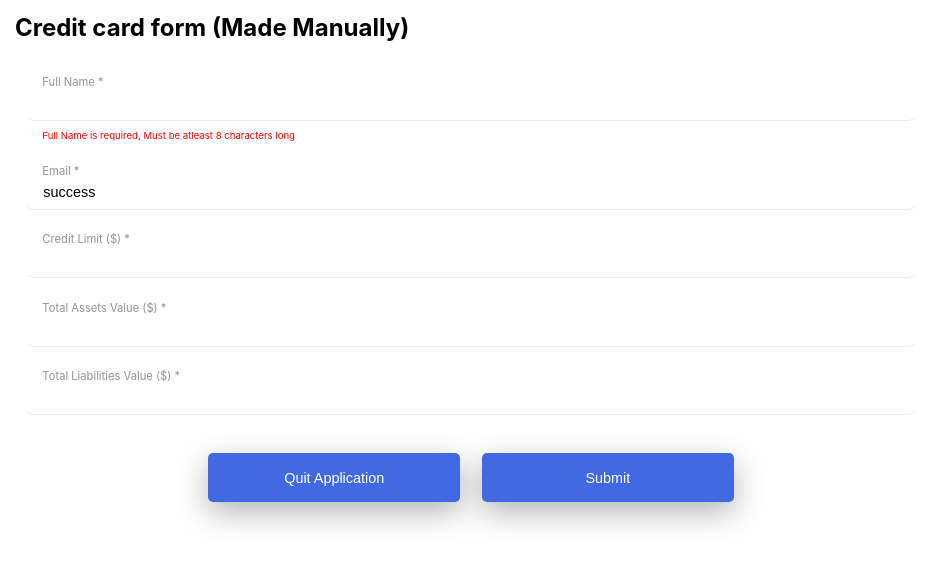
<CreditCardAppForm/> › checks the Full Name Field › checks the email field › throws an error message if user enters an invalid email
Replace the text in the field with id "email" with "errw" at (471, 196), box [24,183,918,210]
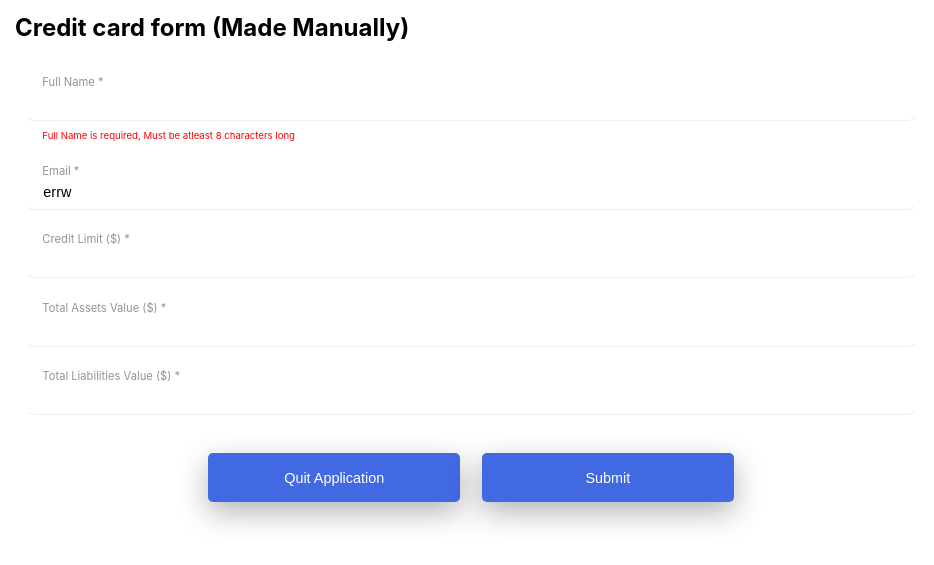
Leave the field with id "email", box [24,183,918,210]
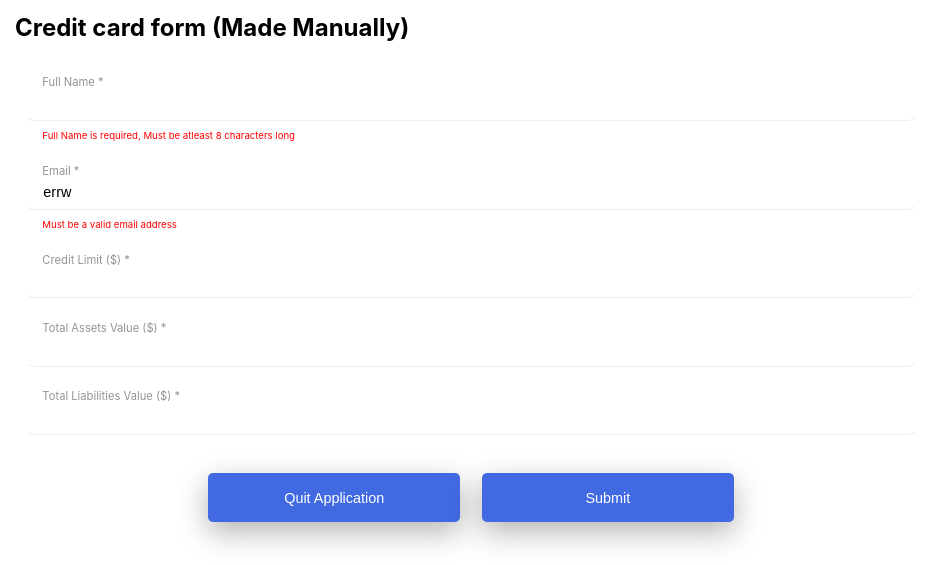
Expected: the text "Must be a valid email address" is shown, [42,219,177,230]
